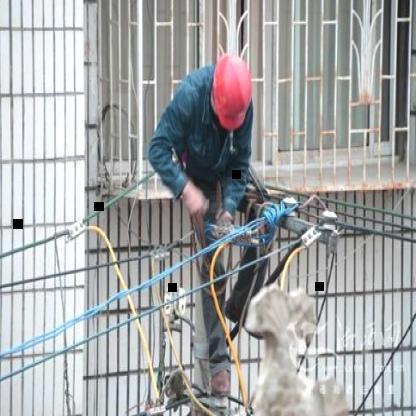helmet: (208, 47, 258, 133)
